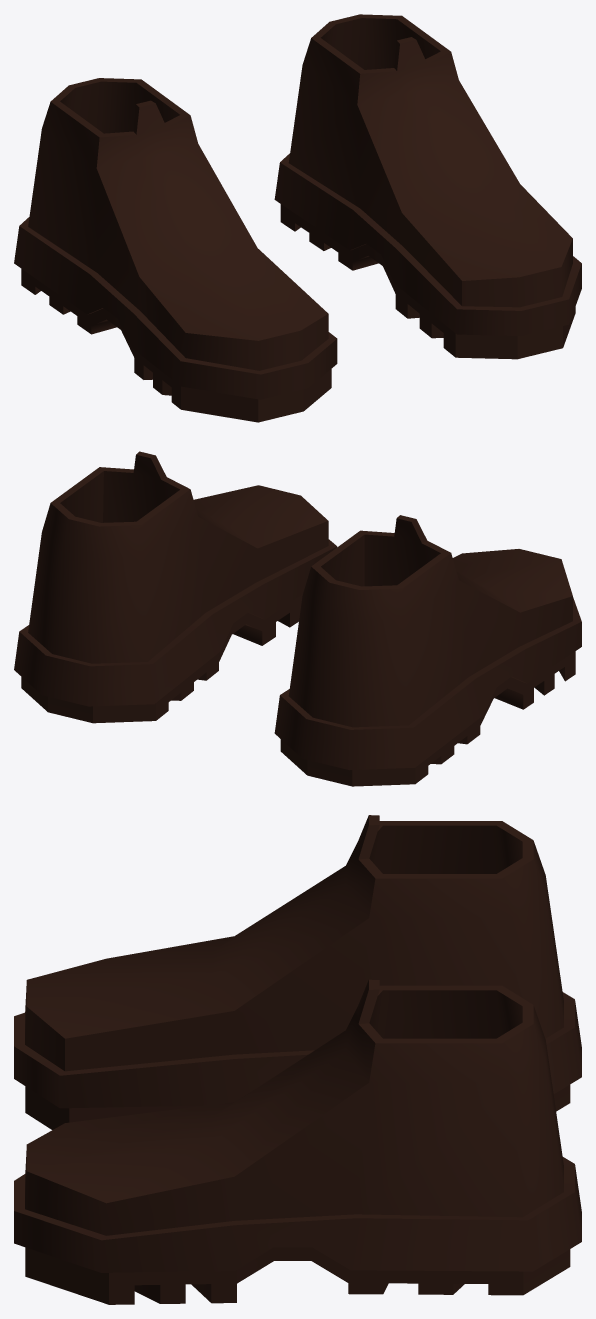
Rendered from Botas.fbx.
The picture shows the model from 3 angles, top to bottom: view 1: azimuth 30°, elevation 25°; view 2: azimuth 150°, elevation 25°; view 3: azimuth 270°, elevation 25°; orthographic projection. The views are drawn at different scales.
Parts seen in each view (by area): view 1: Botas; view 2: Botas; view 3: Botas.
Part boxes in pixels (x1,y1,x2,y2): Botas: [14, 14, 581, 422]; Botas: [14, 451, 581, 786]; Botas: [14, 815, 581, 1304].
Bounding box in the file's own units: 38.12 × 19.47 × 36.08.
